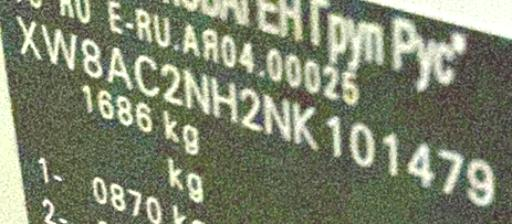letter: (464, 154, 500, 209), (401, 139, 435, 194), (346, 119, 380, 172), (432, 146, 464, 199), (41, 22, 77, 69), (292, 100, 322, 154), (259, 93, 291, 143), (181, 65, 211, 117), (132, 53, 162, 98), (379, 129, 405, 180), (210, 76, 236, 126), (105, 45, 133, 90), (236, 86, 260, 136), (323, 113, 347, 163), (159, 60, 183, 106), (80, 37, 104, 80), (18, 17, 40, 60)
